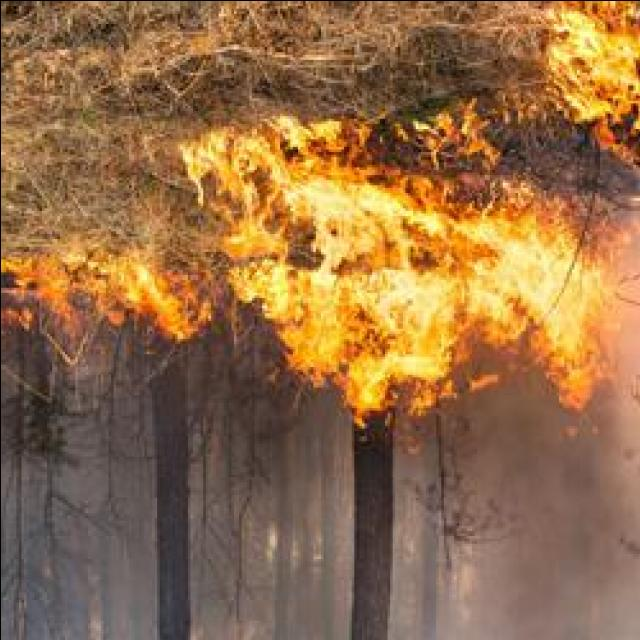fire: (288, 272, 442, 374), (469, 231, 582, 342), (561, 1, 639, 116), (298, 178, 402, 250), (188, 131, 296, 191)
smoke: (513, 430, 640, 638), (610, 215, 640, 415)
